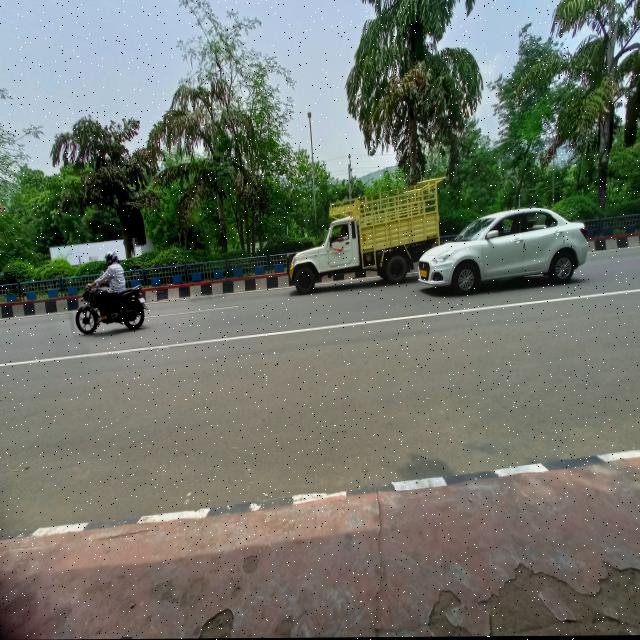bike: (70, 277, 150, 342)
car: (415, 204, 594, 299), (278, 219, 375, 297)
